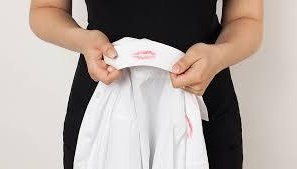lipstick: (180, 113, 196, 142), (131, 49, 162, 62)
